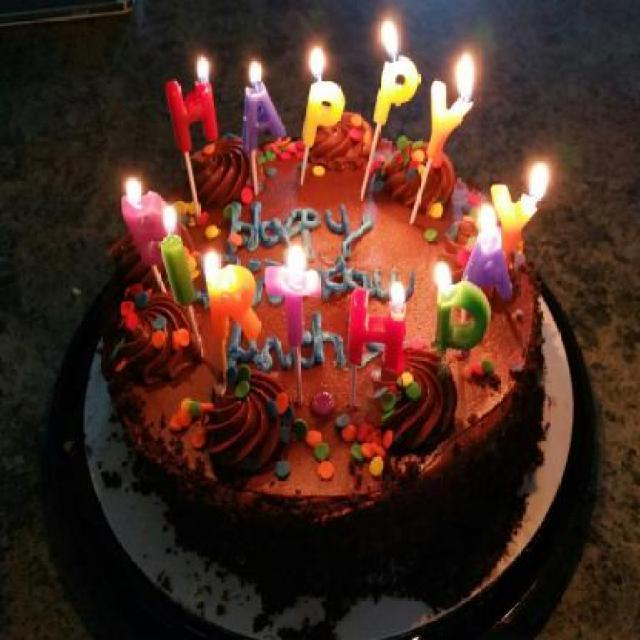Cake: (98, 106, 542, 608)
